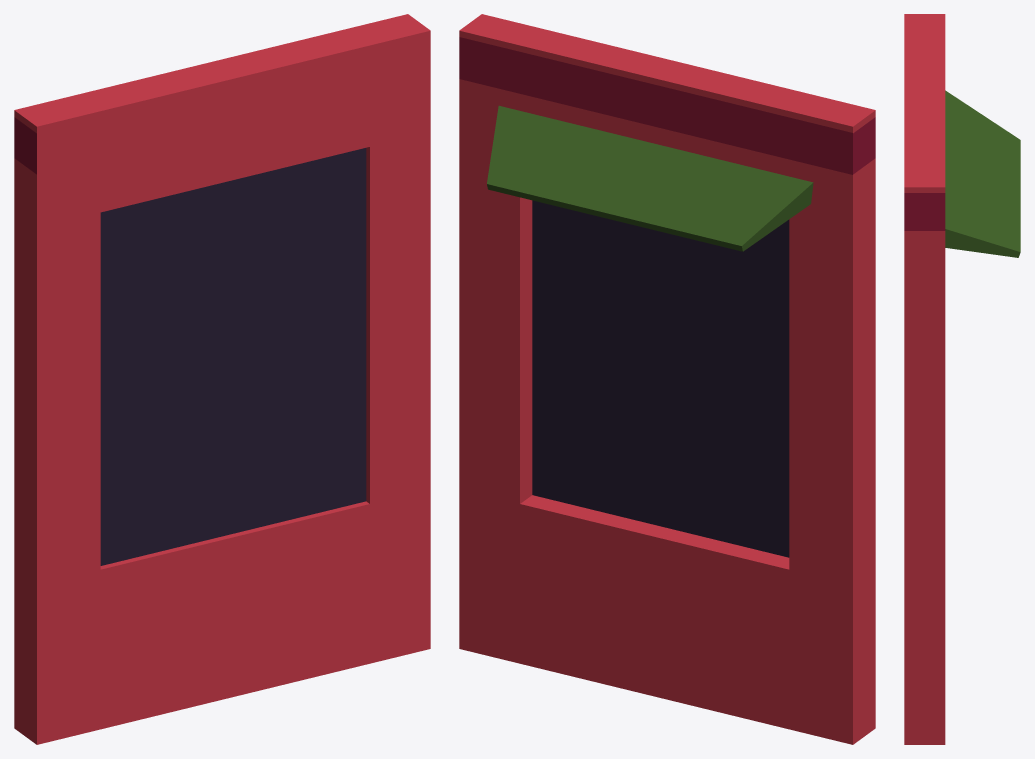
The model's file is fasade-window.fbx.
The picture shows the model from 3 angles, left to right: view 1: azimuth 30°, elevation 25°; view 2: azimuth 150°, elevation 25°; view 3: azimuth 270°, elevation 25°; orthographic projection. The views are drawn at different scales.
Parts seen in each view (by area): view 1: fasade window, window; view 2: fasade window, window, window top; view 3: fasade window, window top.
Part boxes in pixels (box(x1,y1,x2,y2)): fasade window: box(14, 14, 430, 744); window: box(100, 148, 366, 565); fasade window: box(459, 14, 875, 744); window: box(532, 200, 789, 557); window top: box(487, 105, 813, 251); fasade window: box(904, 14, 945, 744); window top: box(945, 90, 1020, 257).
Bounding box in the file's own units: 2 × 3 × 0.5678.
